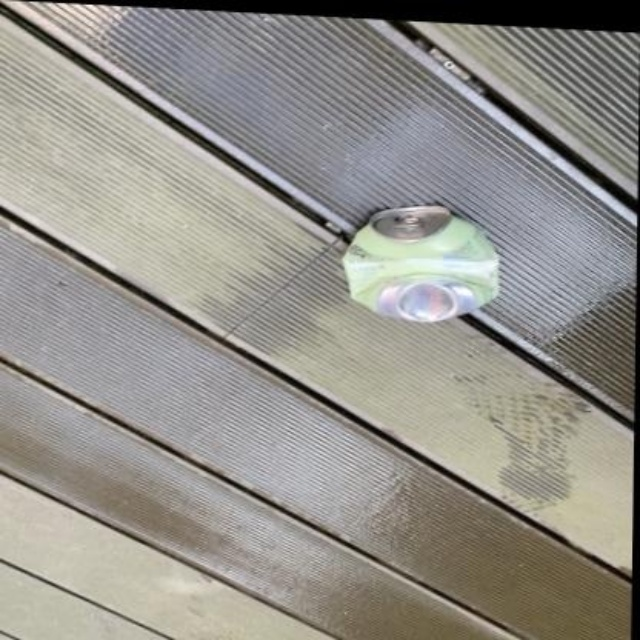trash: (343, 206, 497, 320)
